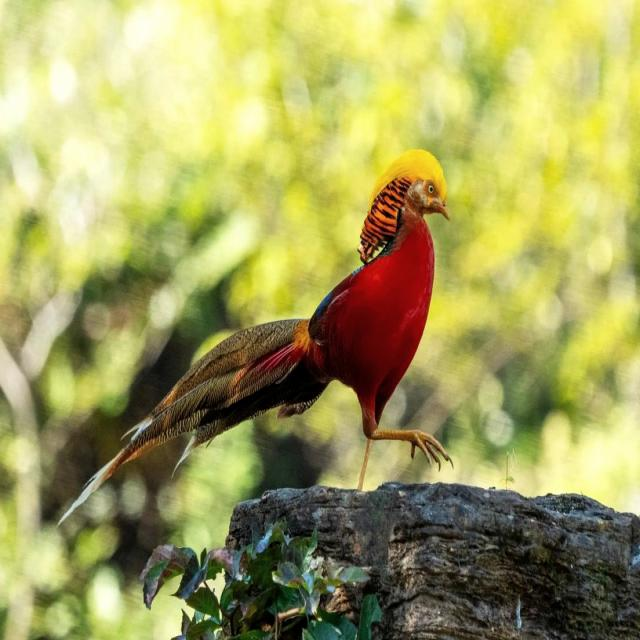Chrysolophus pictus feather: (60, 319, 332, 524)
